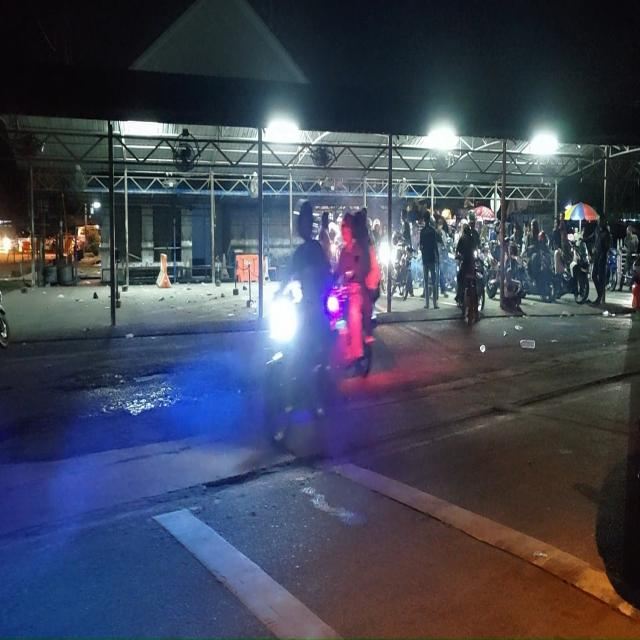Golongan II: (264, 281, 335, 441), (326, 274, 375, 377), (554, 240, 589, 305), (516, 252, 555, 302), (484, 241, 500, 299), (440, 246, 458, 292), (474, 250, 486, 311), (605, 247, 619, 291)
